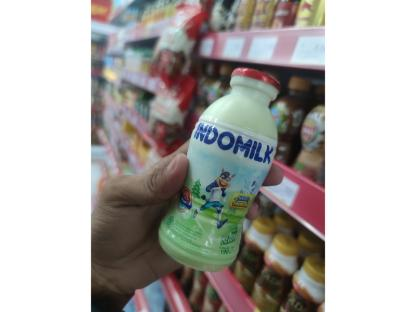Others: (158, 67, 282, 271)
